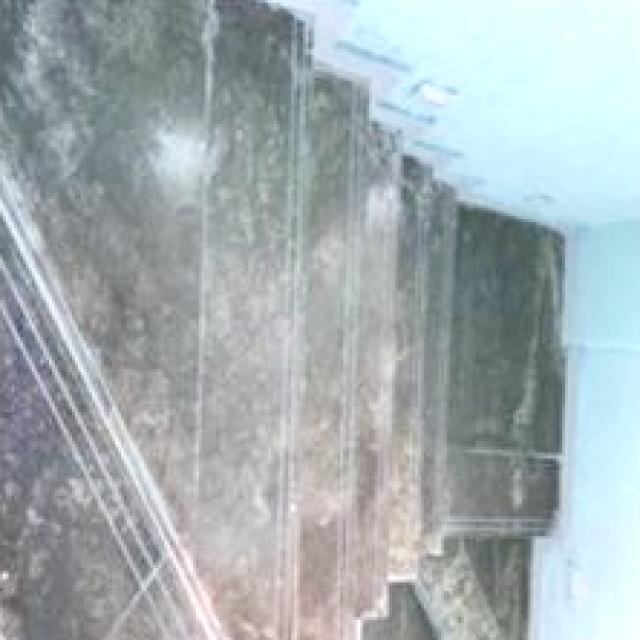downstair: (171, 16, 445, 480)
